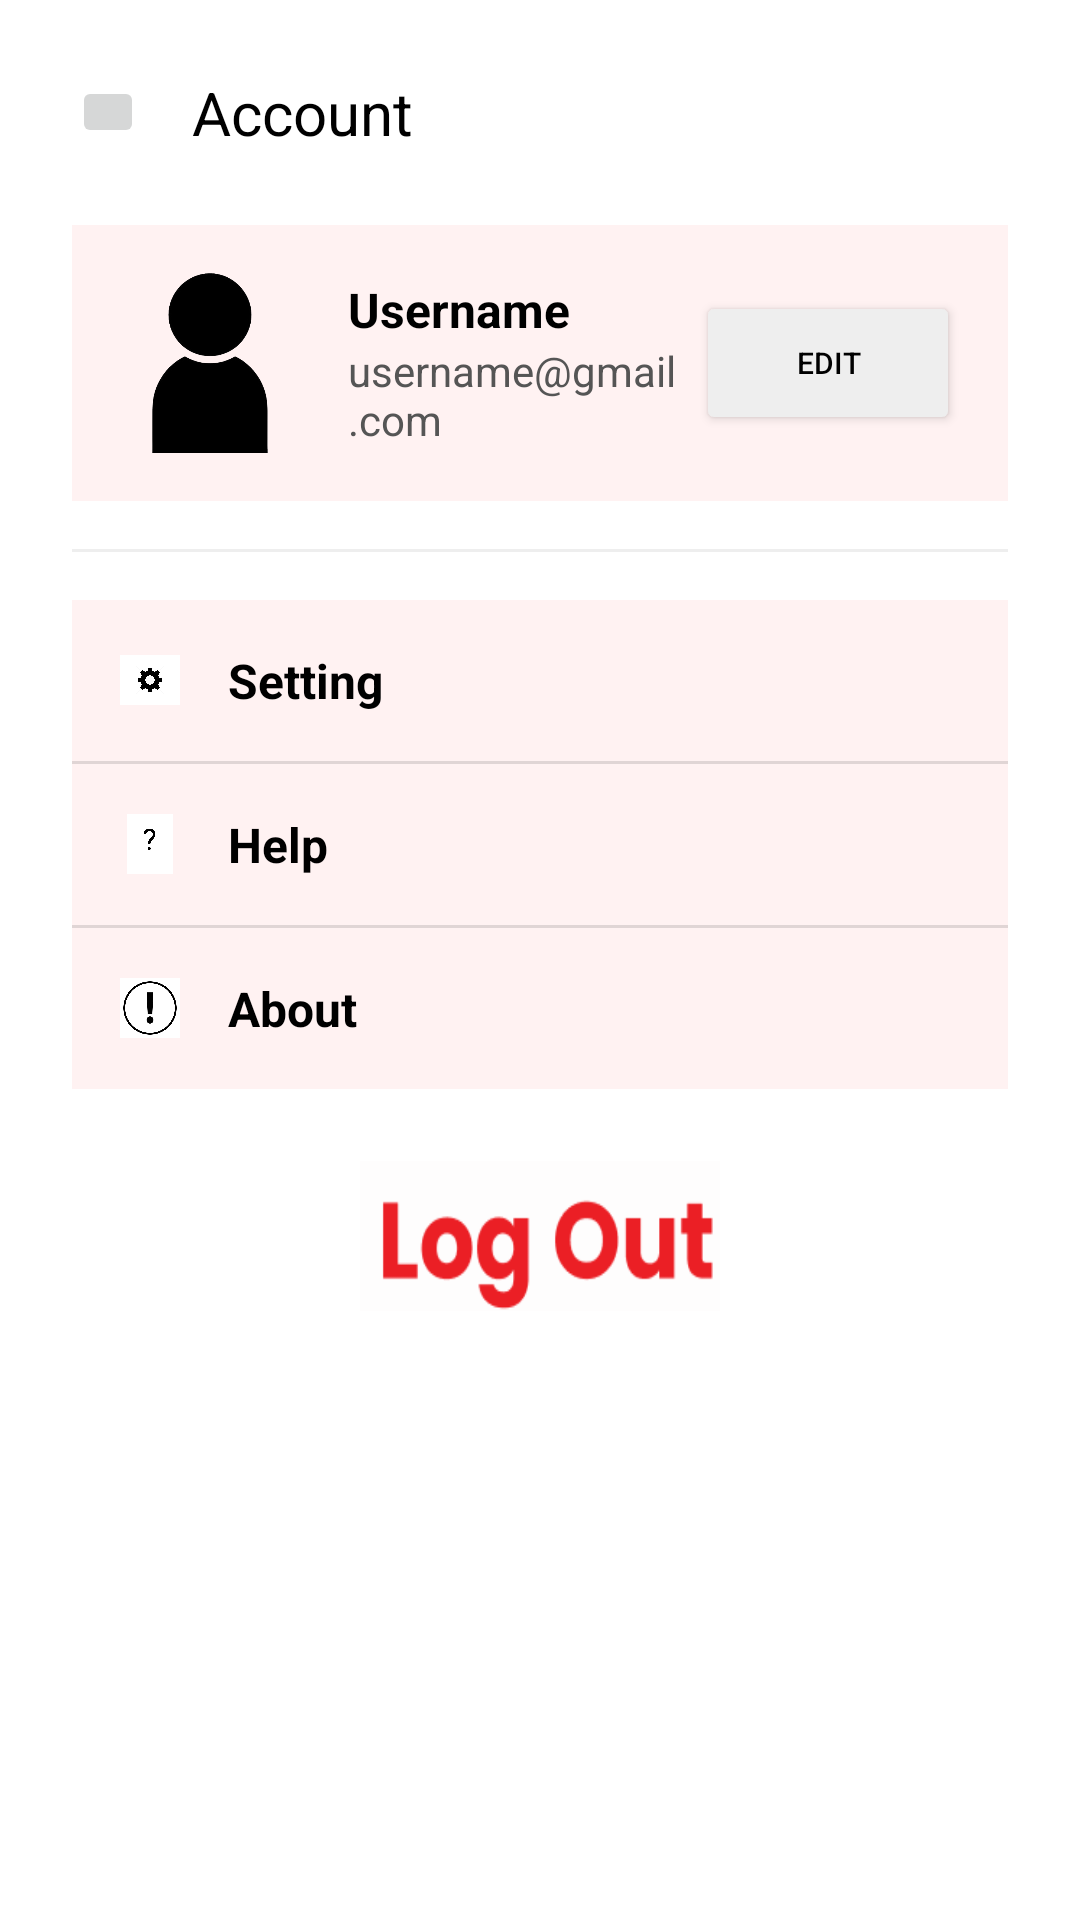

Icon bounding boxes for this 1080×1920 phone screenshot, format Rect(x1, y1, x2, y2):
gear: Rect(138, 668, 162, 692)
Profile: Rect(152, 273, 268, 453)
seru: Rect(120, 978, 180, 1038)
